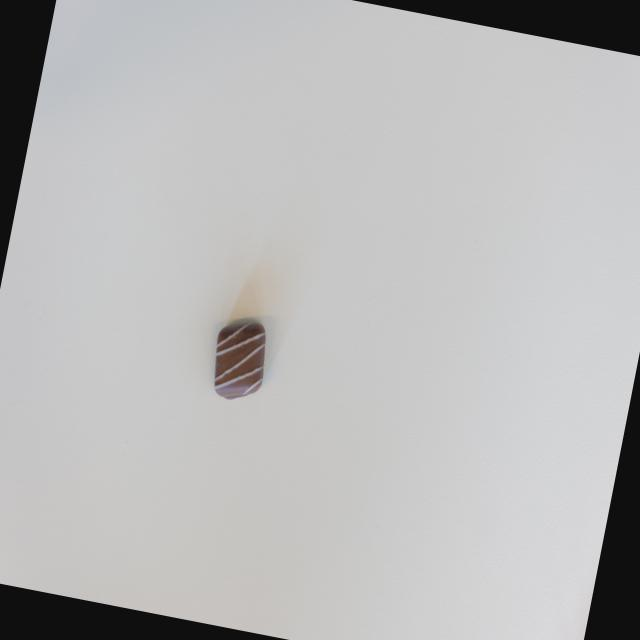Stracciatella: (206, 312, 274, 404)
